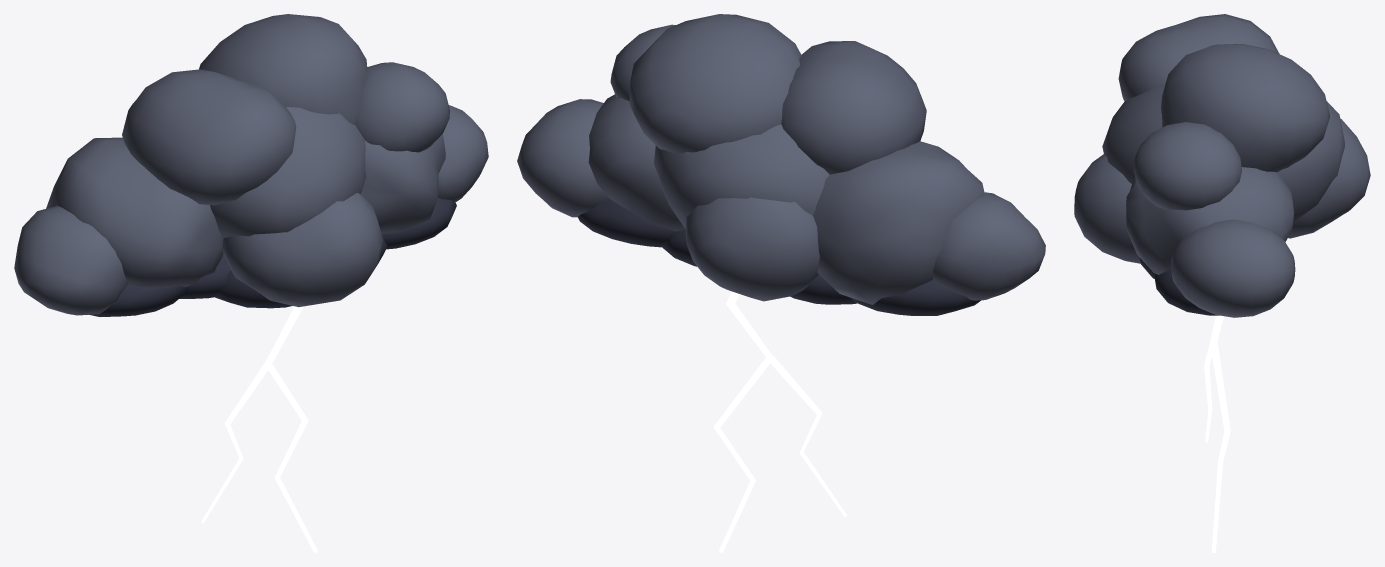
File: obstacle_storm_cloud1.glb
3 views of the same model, side by side, from view 1: azimuth 30°, elevation 25°; view 2: azimuth 150°, elevation 25°; view 3: azimuth 270°, elevation 25° (orthographic). The views are drawn at different scales.
Visible parts, largest first — view 1: obstacle_storm_cloud; view 2: obstacle_storm_cloud; view 3: obstacle_storm_cloud.
Part boxes in pixels (bbox=[...]): obstacle_storm_cloud: bbox=[14, 14, 488, 552]; obstacle_storm_cloud: bbox=[517, 14, 1045, 552]; obstacle_storm_cloud: bbox=[1074, 14, 1370, 552].
Size of the model in its own units: 7.53 by 7.85 by 4.26.
